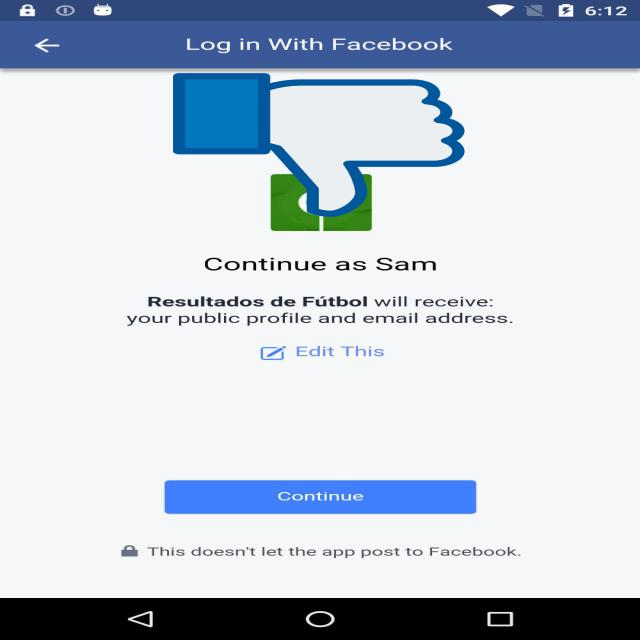obstruction: (173, 70, 465, 220)
